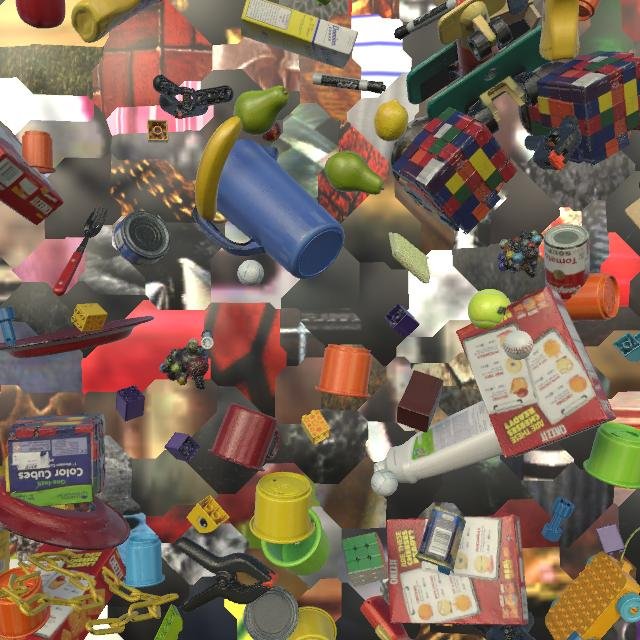ycb_003_cracker_box: (456, 286, 617, 458), (387, 514, 529, 625), (0, 544, 126, 640), (0, 121, 64, 225)
ycb_004_sugar_box: (241, 0, 358, 69)
ycb_005_tomato_soup_can: (543, 224, 590, 302)
ycb_006_mustard_bottle: (71, 0, 162, 43), (539, 0, 579, 61), (0, 527, 10, 575)
ycb_007_tuna_fish_can: (113, 210, 171, 267), (243, 585, 299, 640)
ycb_010_potted_meat_can: (415, 506, 466, 574)
ycb_011_banana: (195, 116, 243, 222), (0, 465, 5, 476)
ycb_013_apple: (15, 0, 66, 29)
ycb_014_lemon: (374, 99, 408, 142)
ycb_016_pear: (234, 86, 290, 135), (324, 151, 384, 195)
